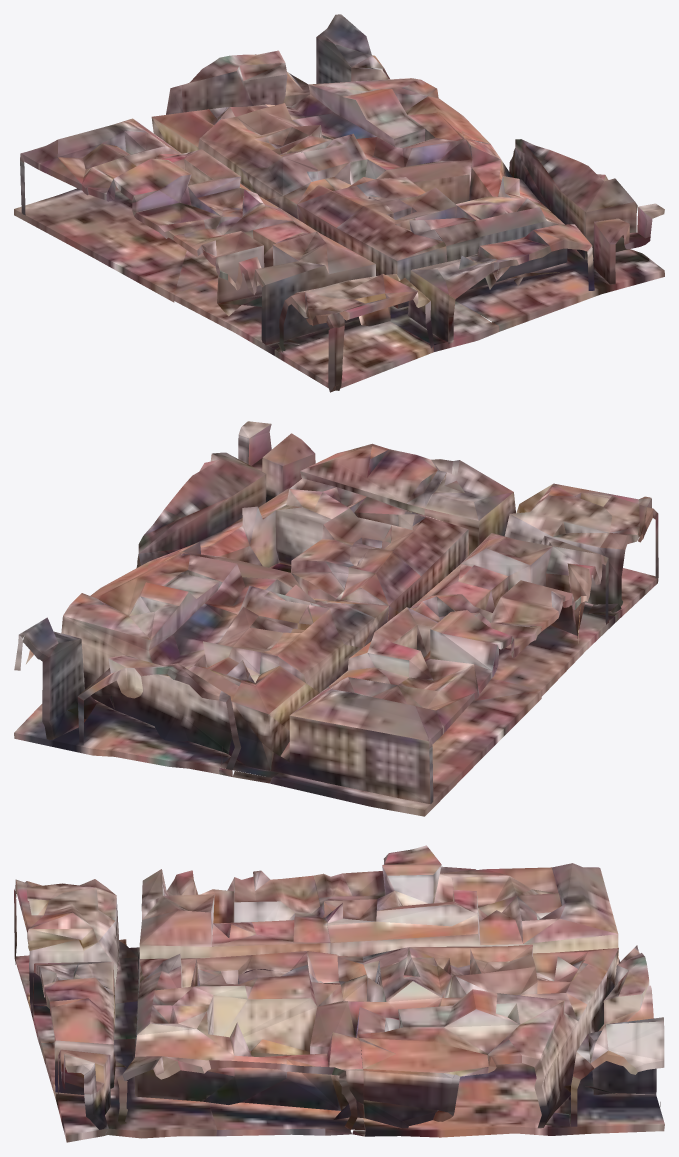
3 views of the same model, one above another, from view 1: azimuth 30°, elevation 25°; view 2: azimuth 150°, elevation 25°; view 3: azimuth 270°, elevation 25° (orthographic). The views are drawn at different scales.
Parts seen in each view (by area): view 1: Mesh_0; view 2: Mesh_0; view 3: Mesh_0.
Boxes of the visible parts, x1,y1,x2,y2 form: Mesh_0: (14,14,664,392); Mesh_0: (14,421,658,816); Mesh_0: (14,845,664,1142).
Size of the model in its own units: 133 by 31.15 by 165.
Materials: 1 (1 with a texture image).
